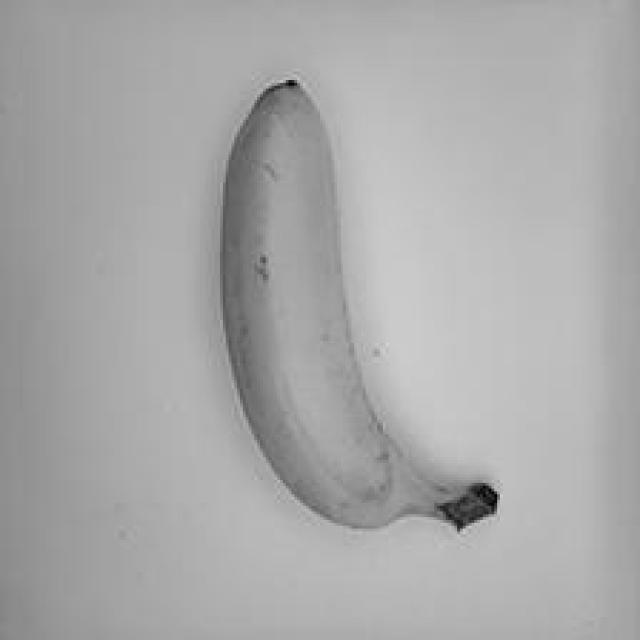Ripe: (172, 53, 523, 560)
